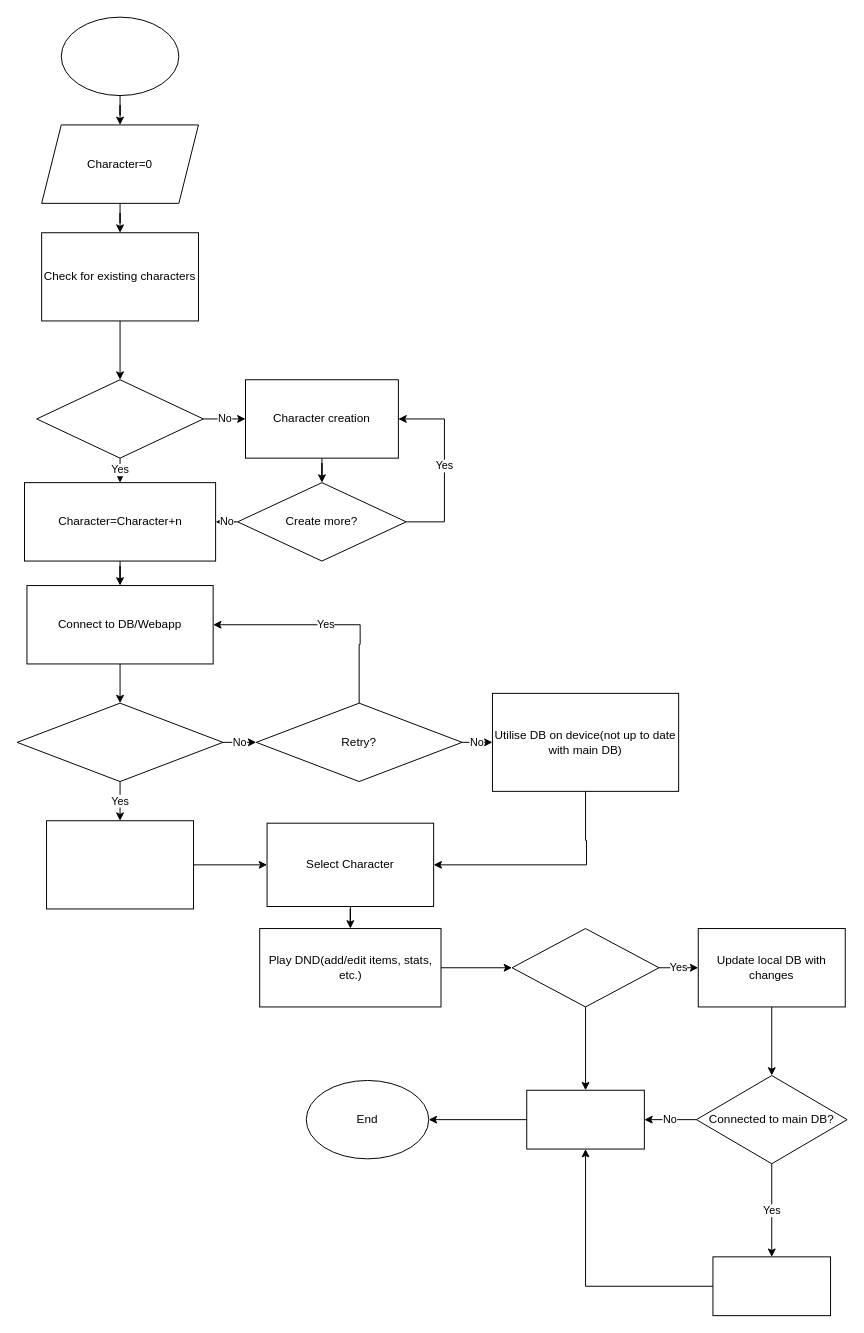
The diagram is 864 pixels wide and 1333 high, and some of its shapes have lost their labels. The shapes that lost their labels are listed below. From the top down, each one's centre as x and y in pixels, then its label:
At pixel 119 56: "App start".
At pixel 119 418: "Any characters?".
At pixel 119 742: "Connected?".
At pixel 120 864: "Add entries from local DB to main DB".
At pixel 585 967: "Changes made to character?".
At pixel 585 1119: "Keep playing".
At pixel 771 1286: "Update main DB with character changes".
